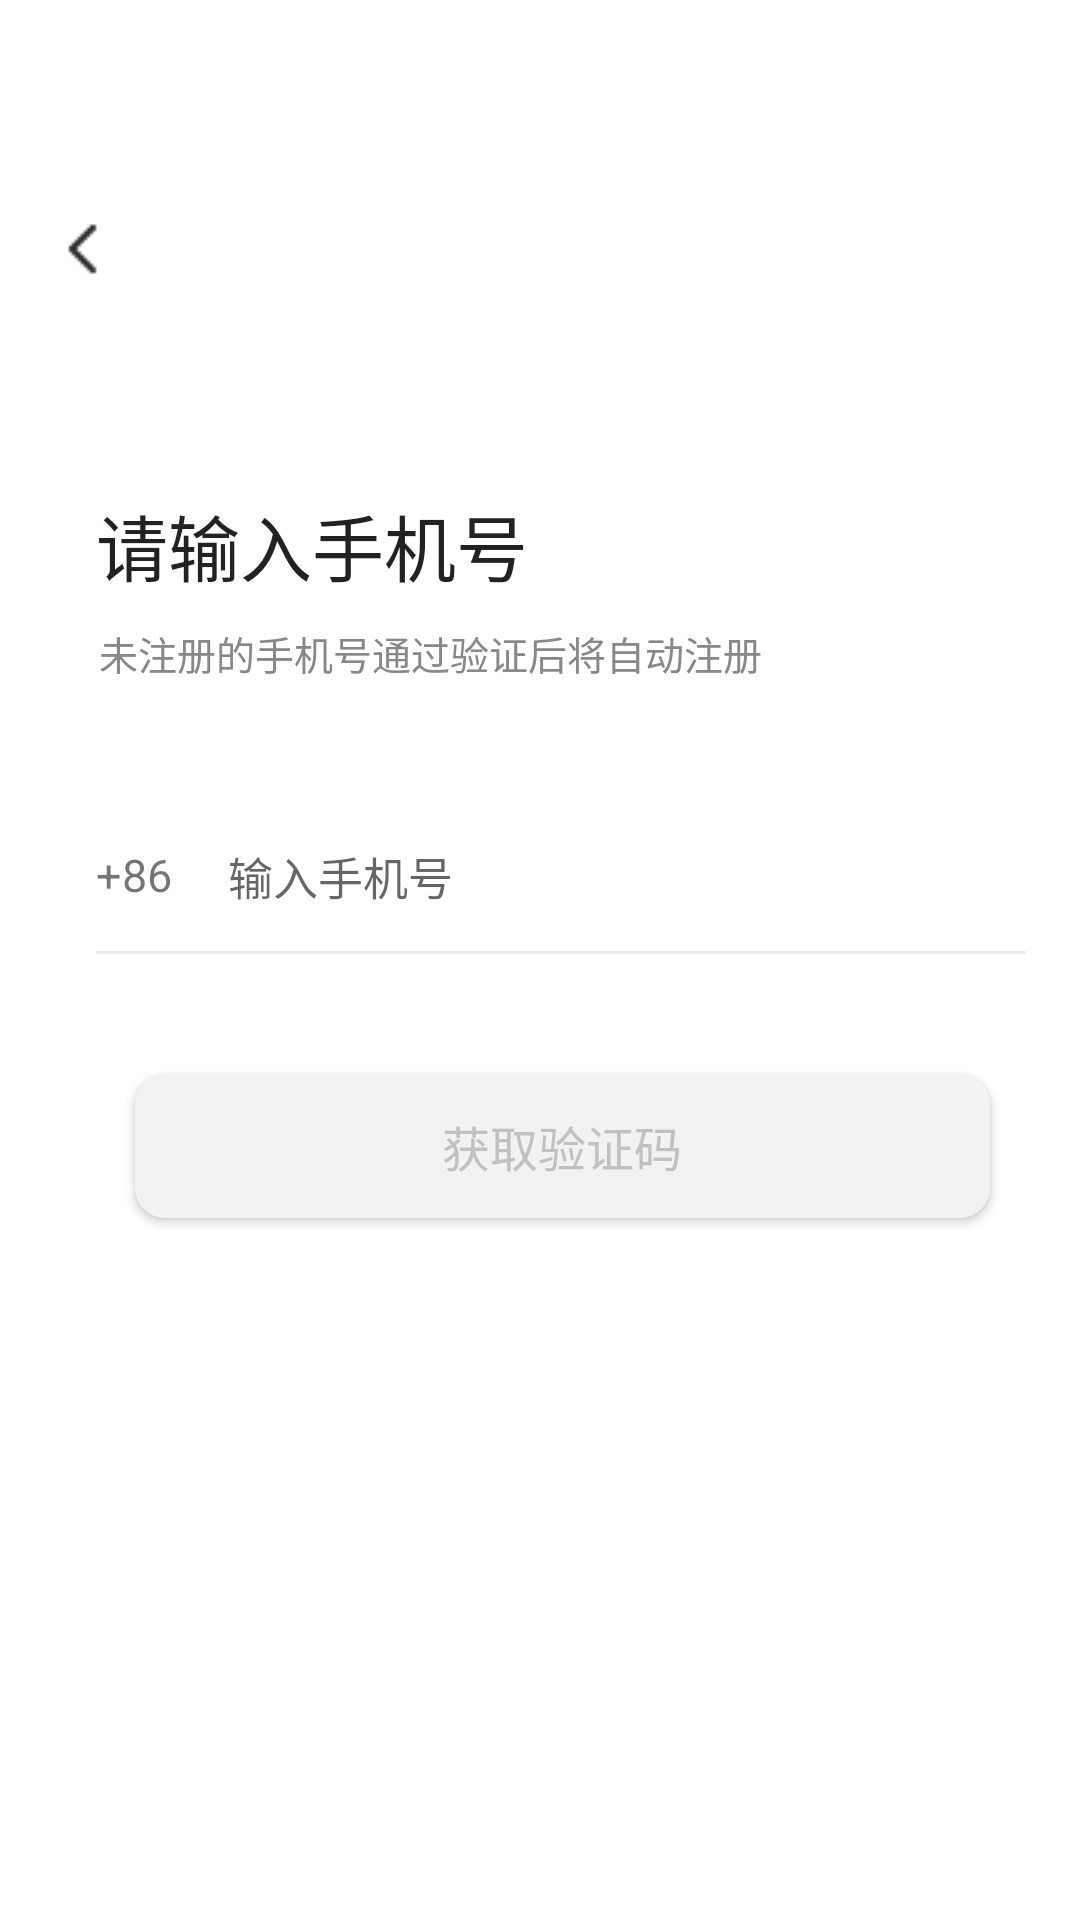

Where to tap for icons on this 1080*1920 app screen, as [x,y]:
back: [82,249]
